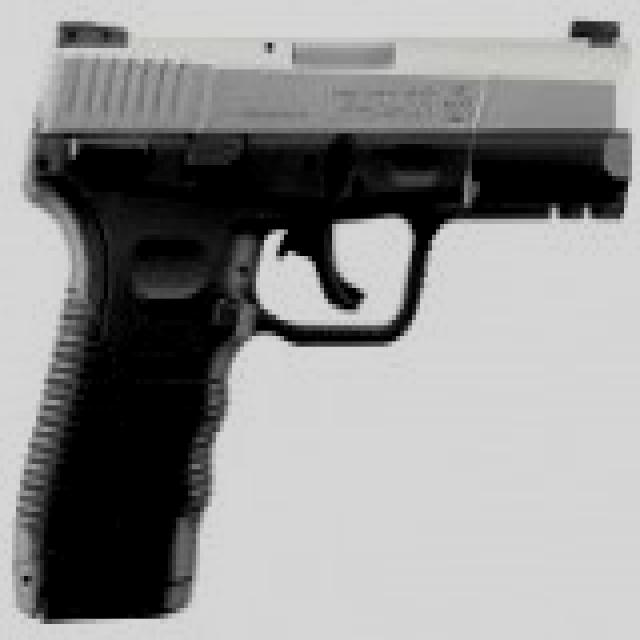pistol: (16, 11, 636, 618)
